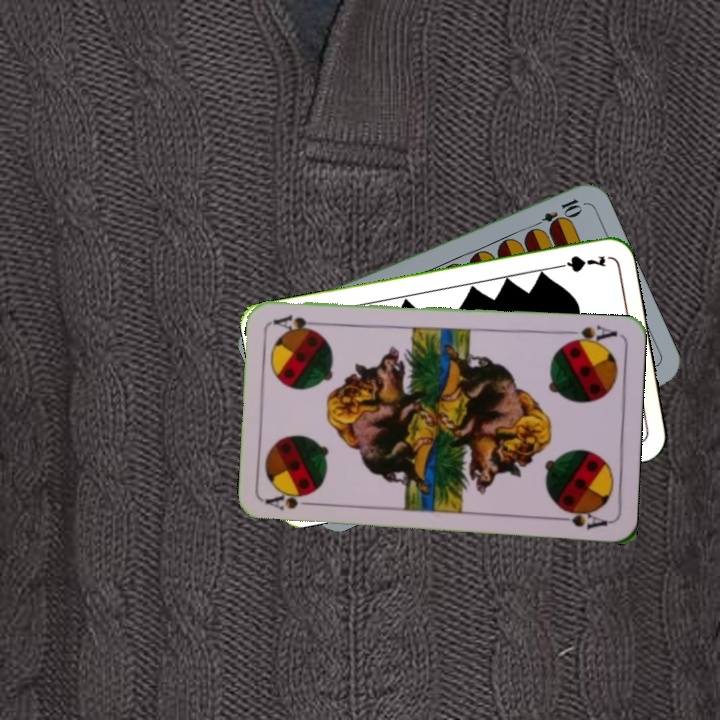E10: (528, 194, 585, 232)
G7: (549, 251, 608, 275)
SA: (560, 321, 620, 349), (262, 492, 321, 513)
